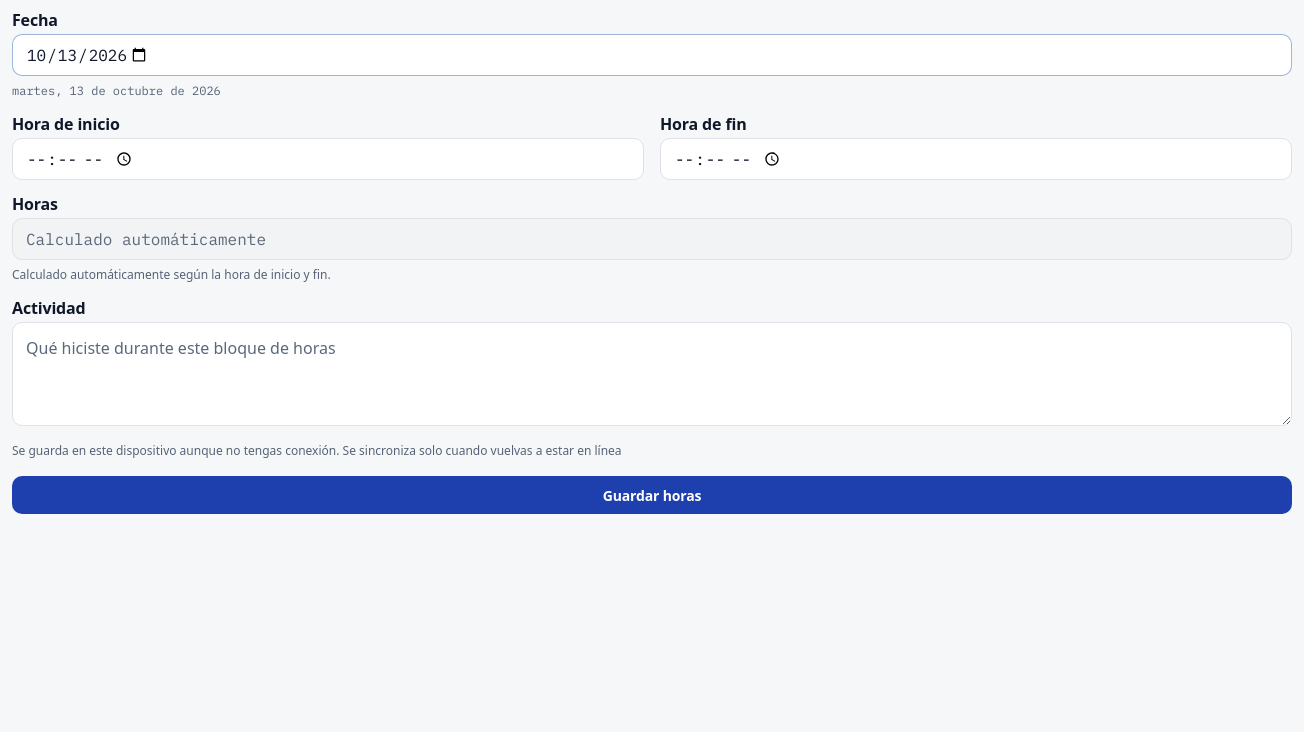
Test: HourLogForm calendar dates › rejects an institution-future date before changing existing local rows or outbox entries
Type "2026-10-14" into the date field labelled "Fecha" at [652, 55], box x1=12 y1=34 x2=1292 y2=76
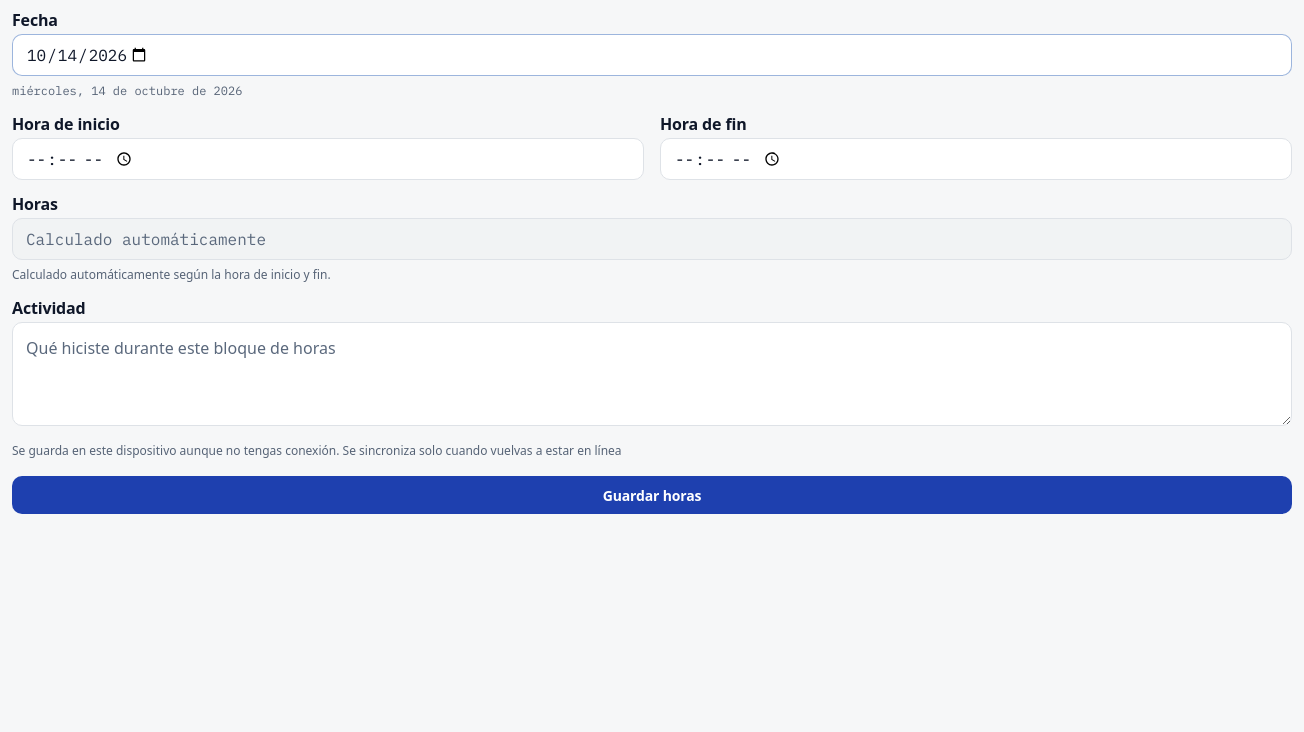
Type "08:00" into the time field labelled "Hora de inicio" at [328, 159], box x1=12 y1=138 x2=644 y2=180
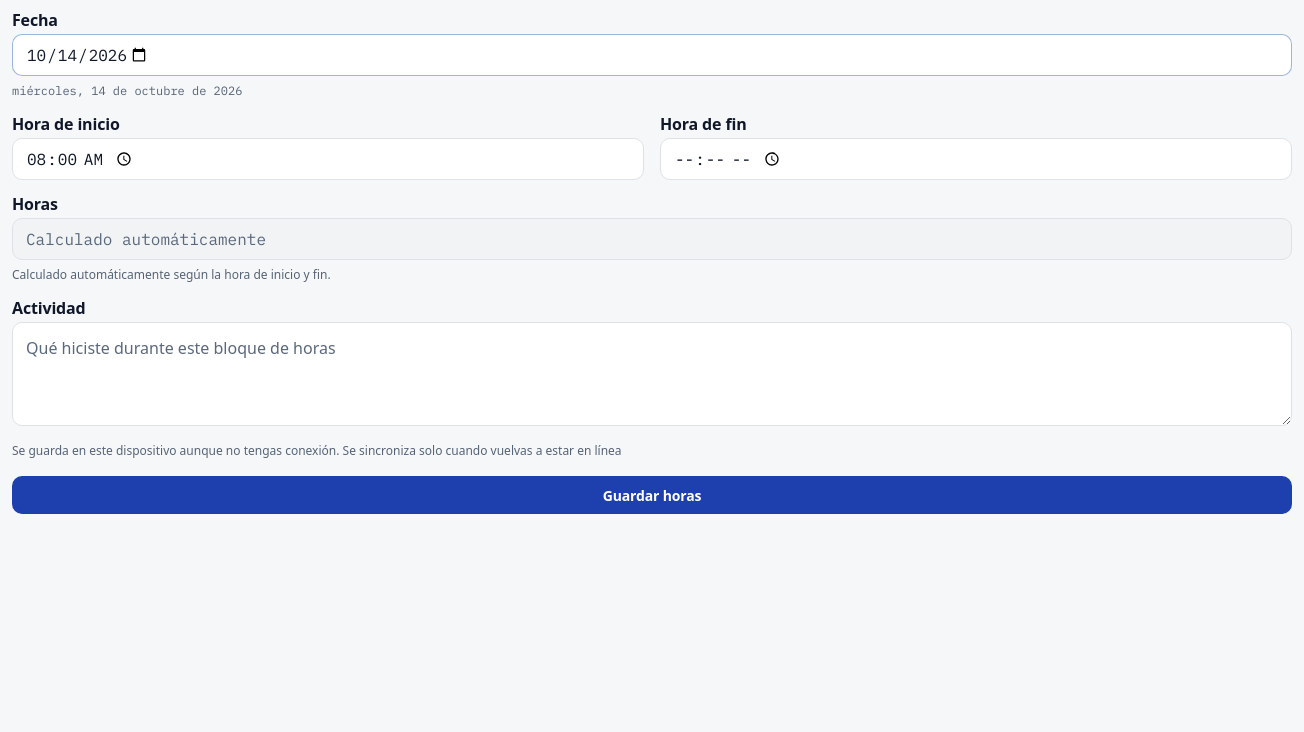
Type "12:00" into the time field labelled "Hora de fin" at [976, 159], box x1=660 y1=138 x2=1292 y2=180
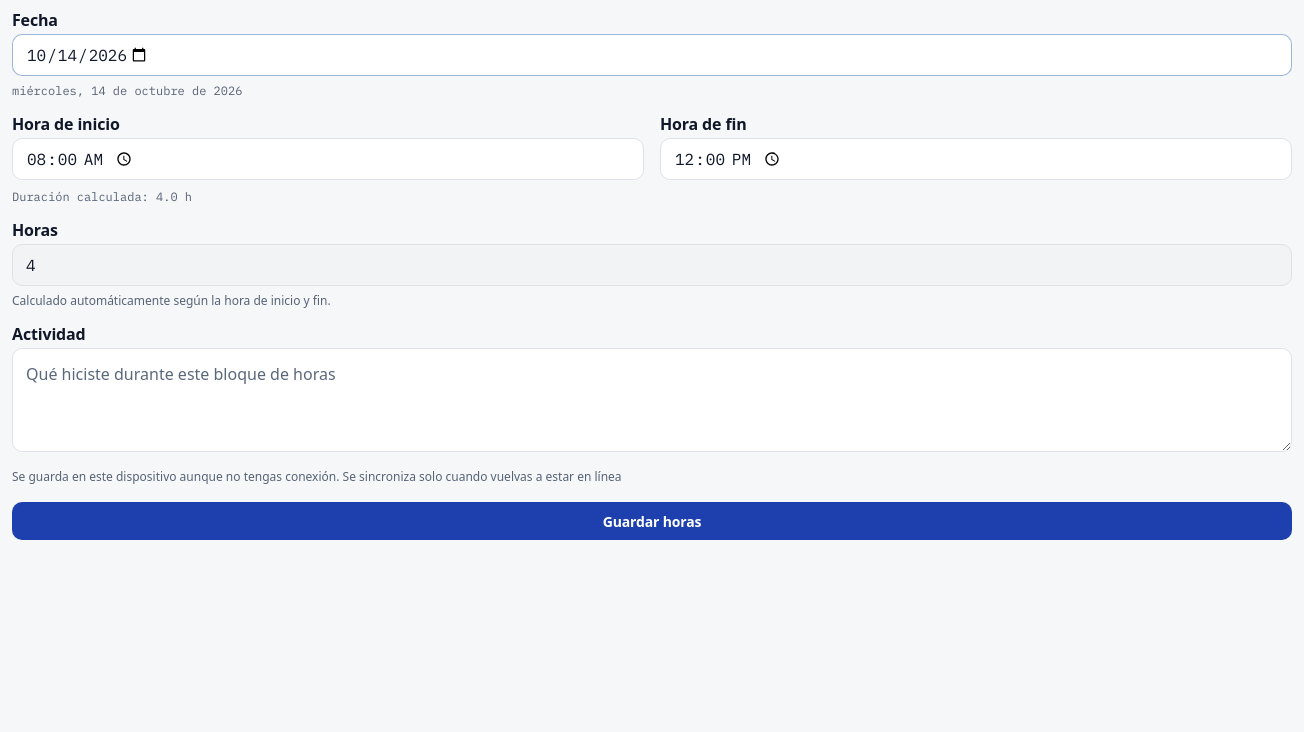
Type "Apoyo en laboratorio" into the text box labelled "Actividad" at [652, 400], box x1=12 y1=348 x2=1292 y2=452
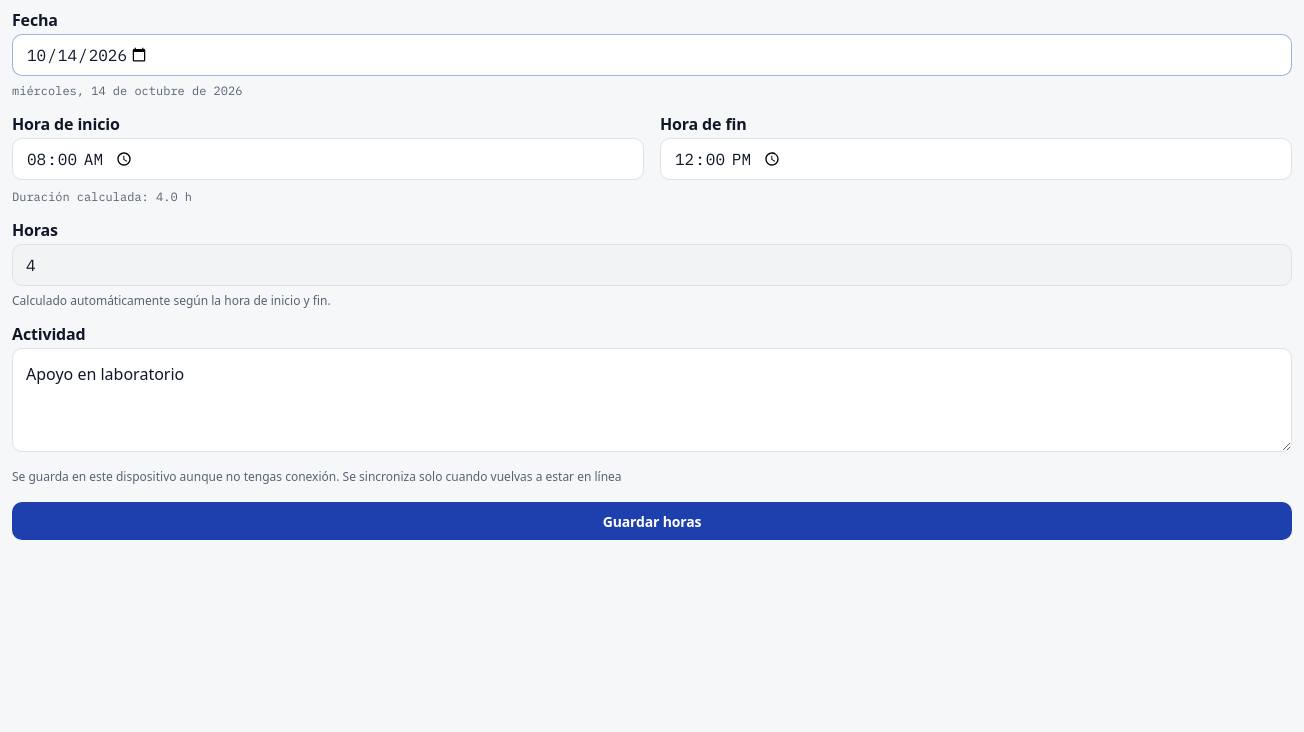
Click the button "Guardar horas" at [652, 521], box x1=12 y1=502 x2=1292 y2=540
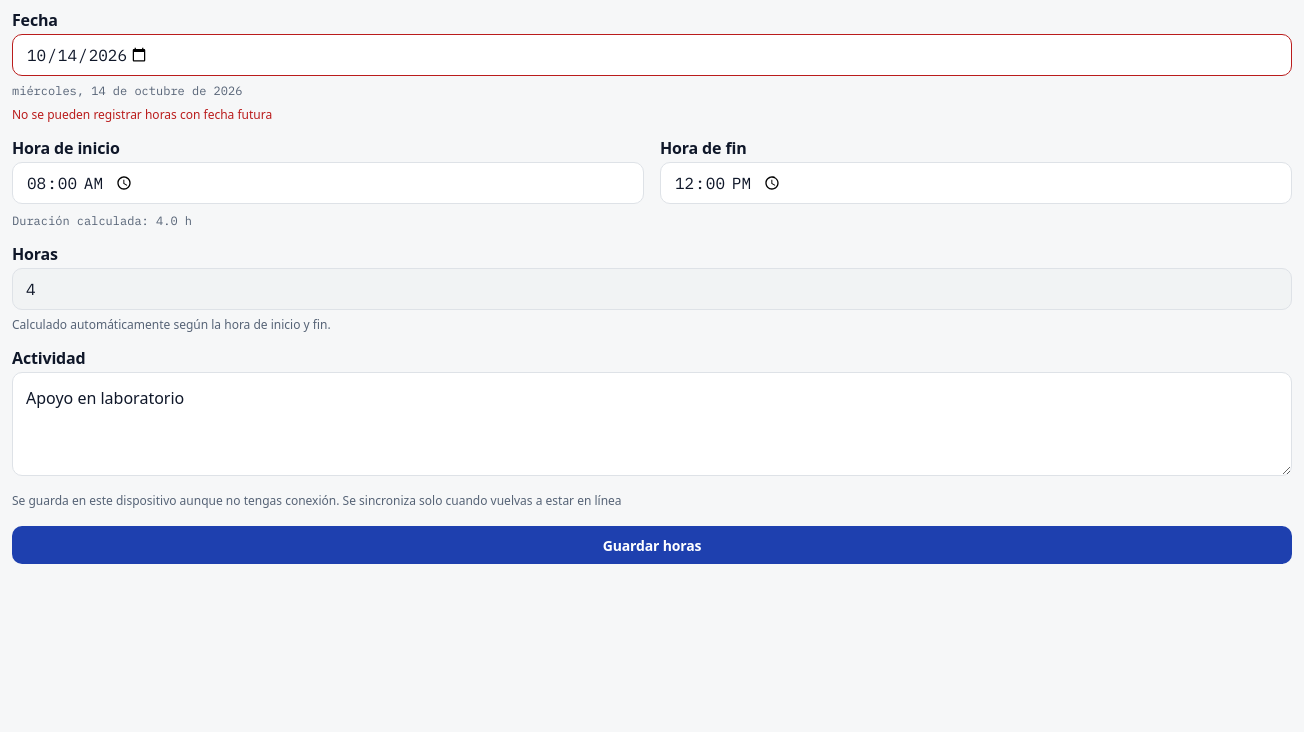
Check: the message reads "No se pueden registrar horas con fecha futura", box x1=12 y1=106 x2=272 y2=123
